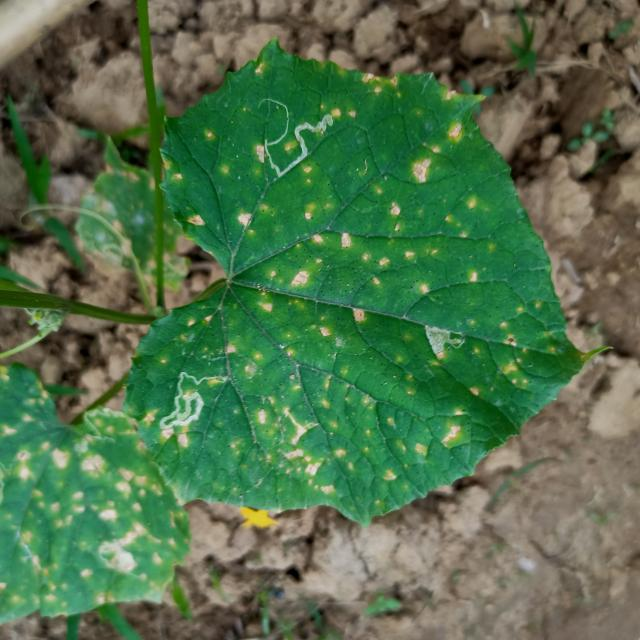disease_cucumber: (147, 82, 553, 497), (0, 404, 156, 614)
